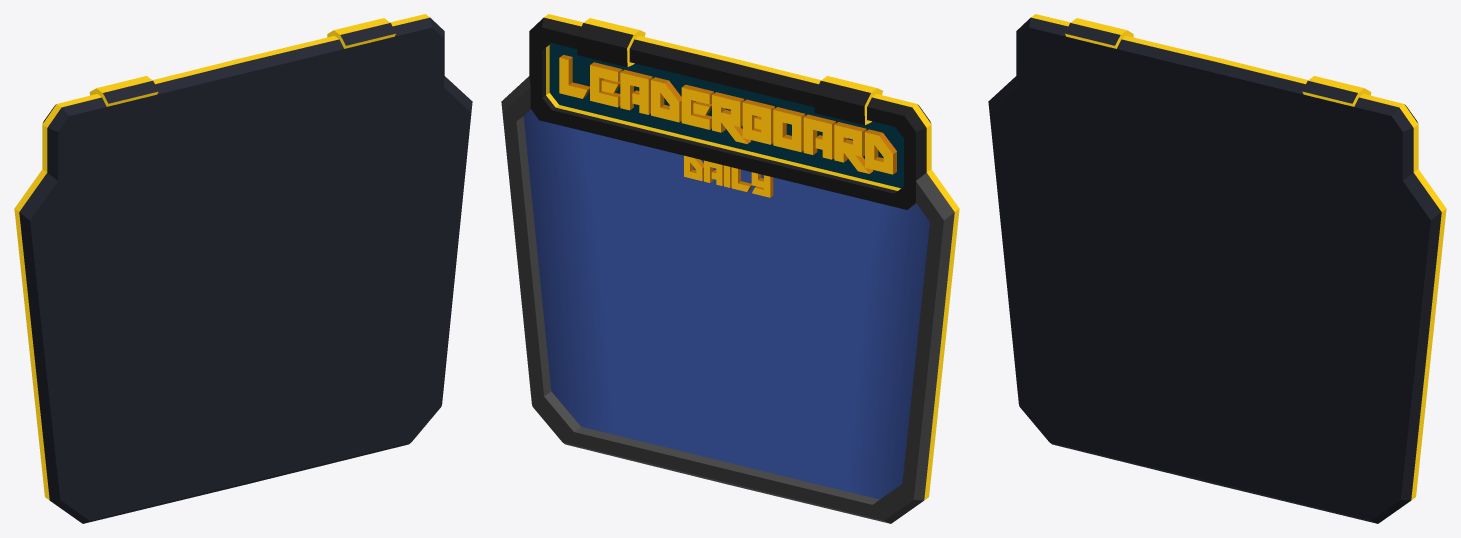
The model's file is scoreboard.02.gltf.
3 views of the same model, side by side, from view 1: azimuth 30°, elevation 25°; view 2: azimuth 150°, elevation 25°; view 3: azimuth 330°, elevation 25° (orthographic).
Visible parts, largest first — view 1: scoreboard.002; view 2: scoreboard.002, Text.004, Text.011; view 3: scoreboard.002.
Boxes of the visible parts, x1,y1,x2,y2 form: scoreboard.002: (14,14,472,523); scoreboard.002: (501,14,959,523); Text.004: (559,55,896,174); Text.011: (684,155,773,197); scoreboard.002: (988,14,1446,523).
Bounding box in the file's own units: 3.6 × 3.25 × 0.2576.
Materials: 2 (2 with a texture image).
